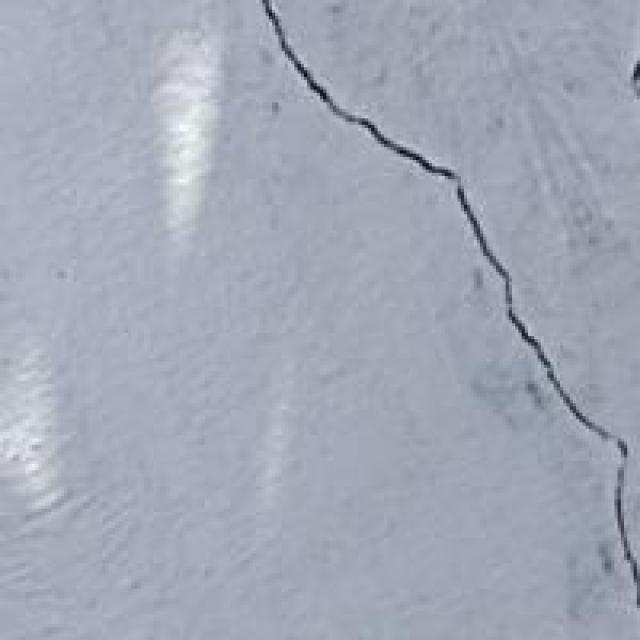crack: (227, 0, 637, 627)
